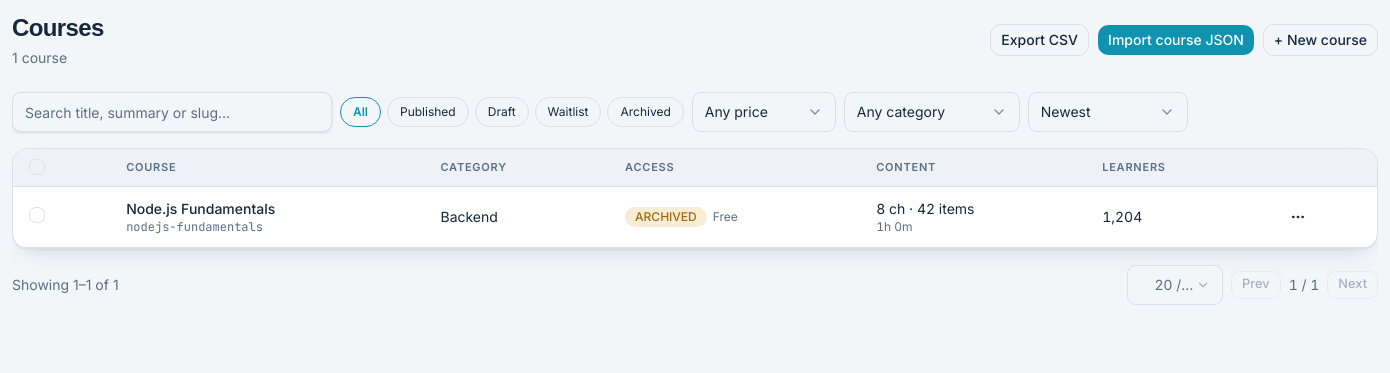
Scenario: CoursesTable › offers neither publish action while a course is archived
Click the button named "Actions for Node.js Fundamentals". click: [1298, 216]
box: [1282, 200, 1314, 232]
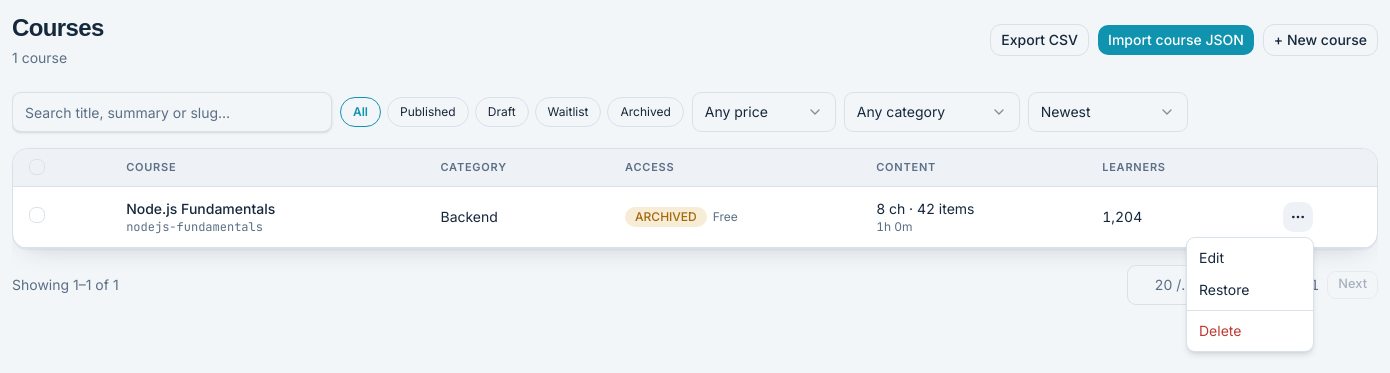
Check: the menu item "Restore" is shown, box [1199, 281, 1249, 298]
